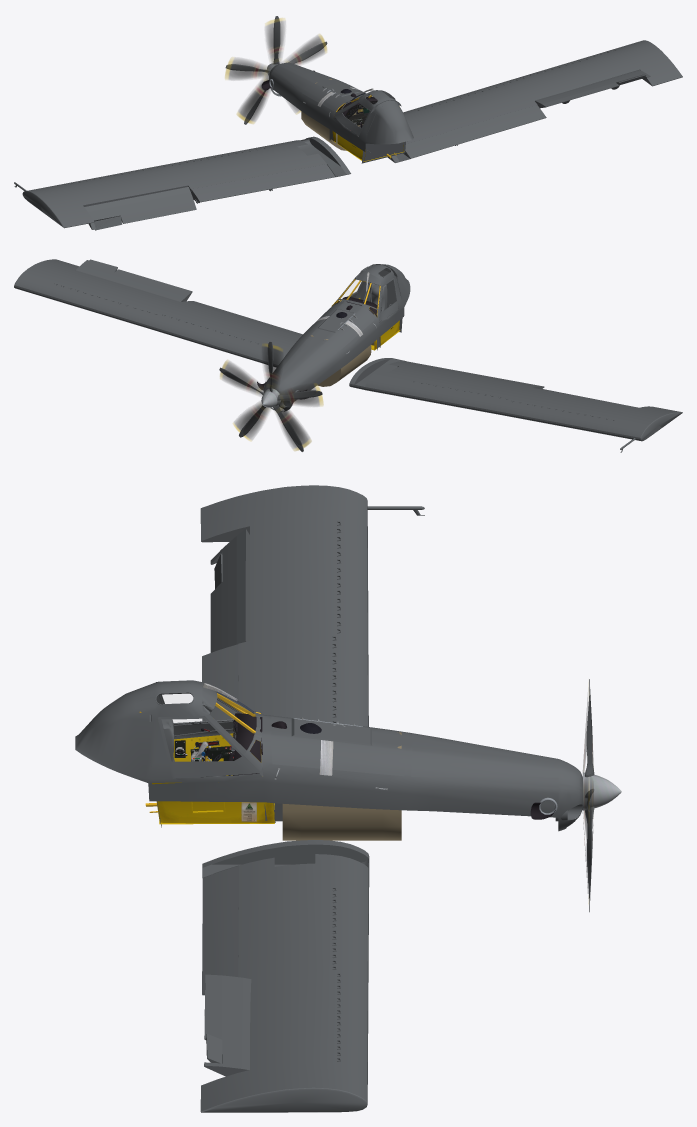
Rendered from cabina.glb.
3 renders of one model, top to bottom at view 1: azimuth 30°, elevation 25°; view 2: azimuth 150°, elevation 25°; view 3: azimuth 270°, elevation 25°, orthographic. The views are drawn at different scales.
Visible parts, largest first — view 1: m15, m14, m9, m23, m16; view 2: m15, m14, m9, m23, m34; view 3: m15, m14, m23, m16, m34.
Part boxes in pixels (x1,y1,x2,y2): m15: [22, 40, 682, 230]; m14: [14, 16, 619, 203]; m9: [225, 18, 326, 123]; m23: [261, 70, 396, 158]; m16: [332, 101, 404, 161]; m15: [14, 259, 682, 441]; m14: [219, 264, 635, 452]; m9: [220, 344, 323, 450]; m23: [257, 279, 392, 399]; m34: [261, 312, 376, 407]; m15: [200, 485, 369, 1112]; m14: [75, 506, 594, 912]; m23: [139, 693, 555, 840]; m16: [152, 714, 275, 824]; m34: [193, 717, 621, 810].
Size of the model in its own units: 18.04 by 3.08 by 6.89.
Materials: 61 (40 with a texture image).
